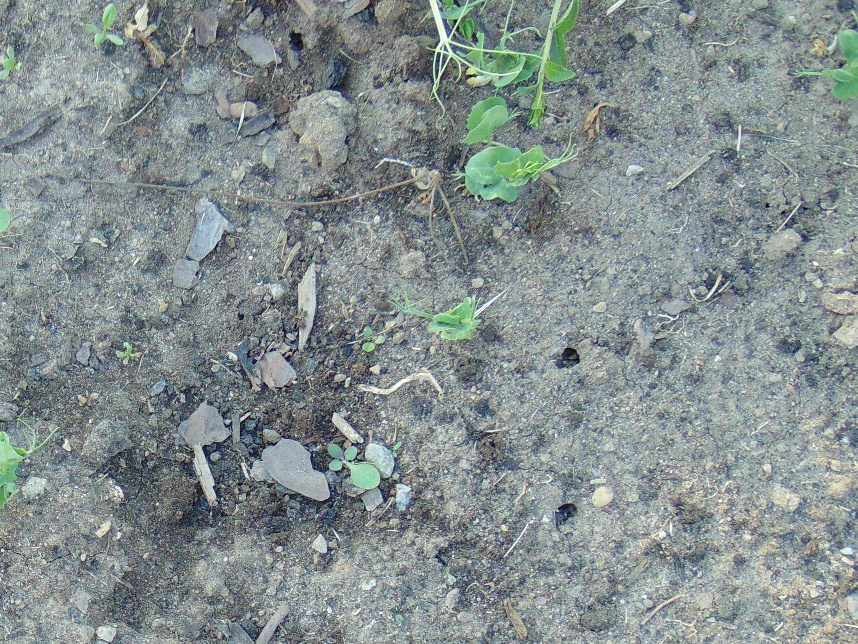crop: (418, 1, 585, 138), (453, 137, 579, 203), (791, 6, 858, 108), (392, 288, 487, 342), (1, 423, 44, 508)
weed: (328, 441, 380, 491), (85, 4, 122, 47), (1, 41, 23, 78)
